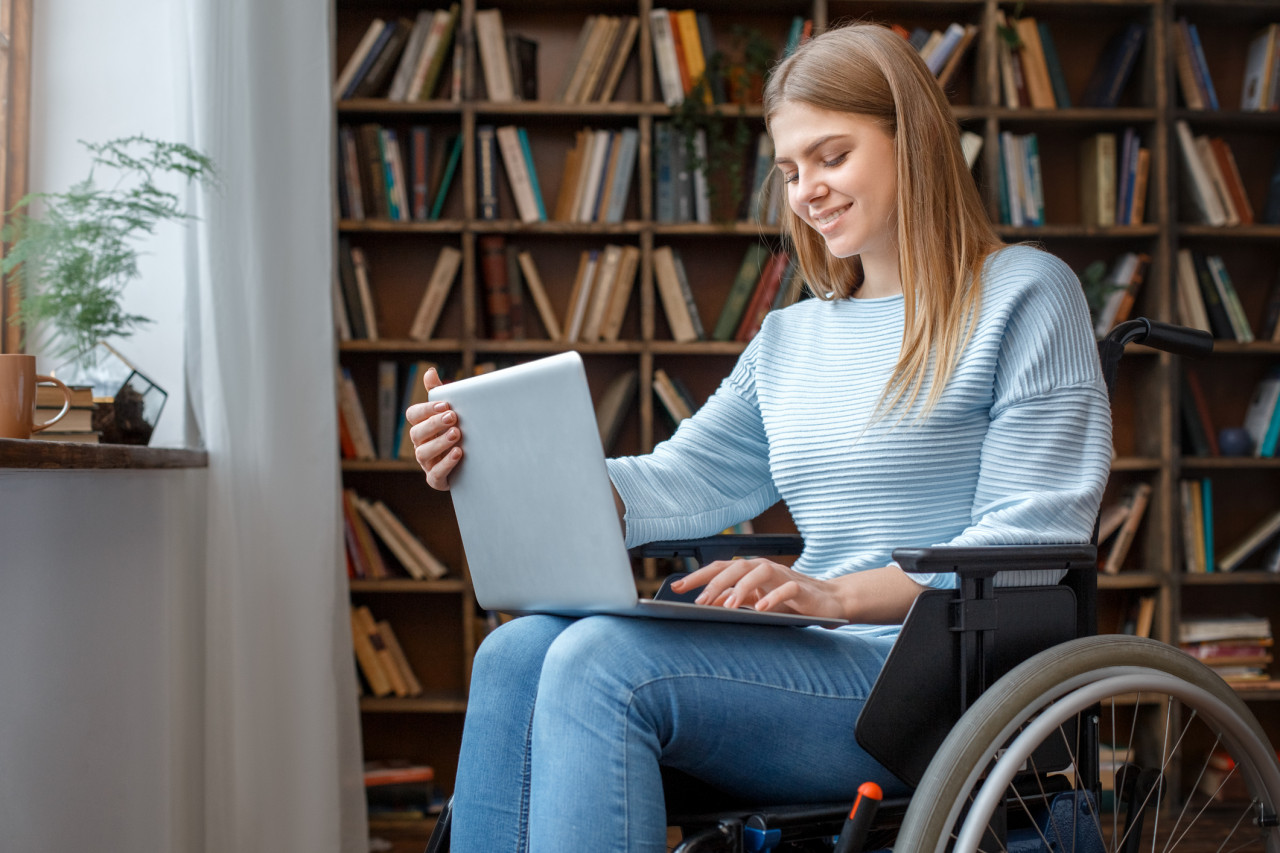without_mask: (771, 117, 888, 250)
